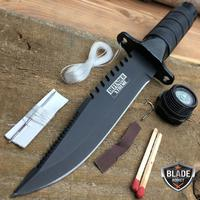knife: (9, 7, 184, 198)
